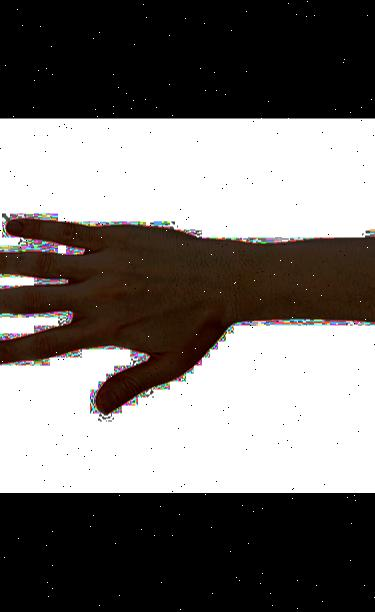Paper: (0, 217, 212, 413)
